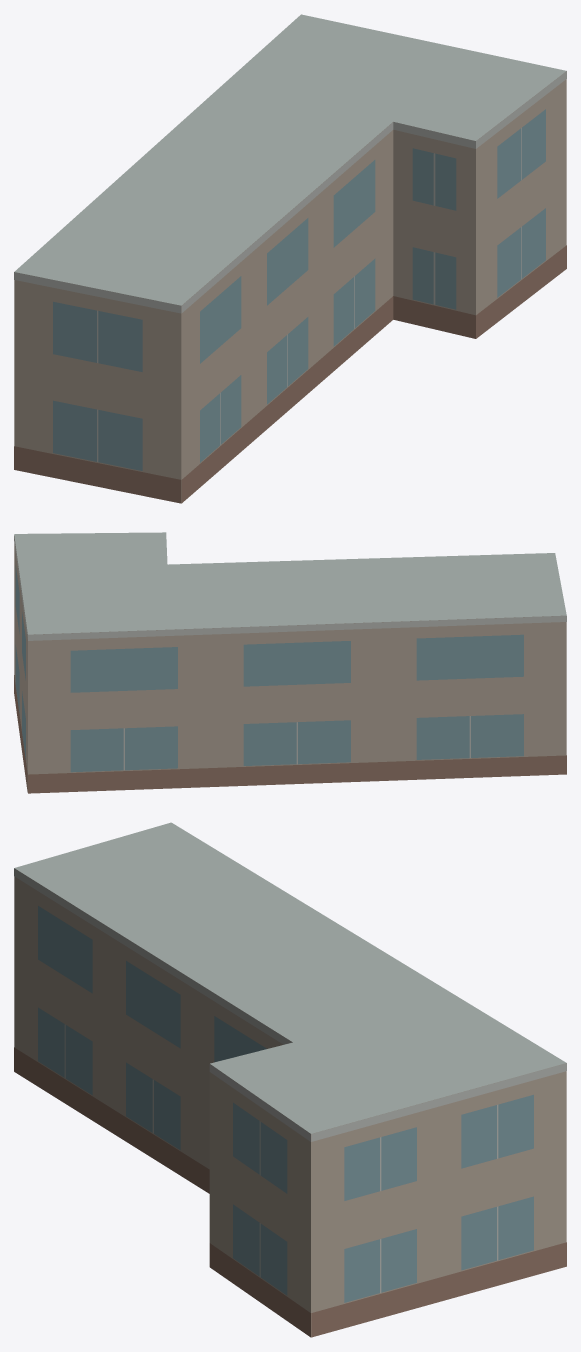
The model's file is survey-upis-32763305.glb.
3 views of the same model, one above another, from view 1: azimuth 30°, elevation 25°; view 2: azimuth 150°, elevation 25°; view 3: azimuth 270°, elevation 25° (orthographic). The views are drawn at different scales.
Parts seen in each view (by area): view 1: survey-upis-32763305.tmp; view 2: survey-upis-32763305.tmp; view 3: survey-upis-32763305.tmp.
Part boxes in pixels (left/top/right/bottom): survey-upis-32763305.tmp: left=14, top=14, right=566, bottom=503; survey-upis-32763305.tmp: left=14, top=532, right=566, bottom=793; survey-upis-32763305.tmp: left=14, top=822, right=566, bottom=1337.
Bounding box in the file's own units: 20.03 × 6.1 × 15.02.
